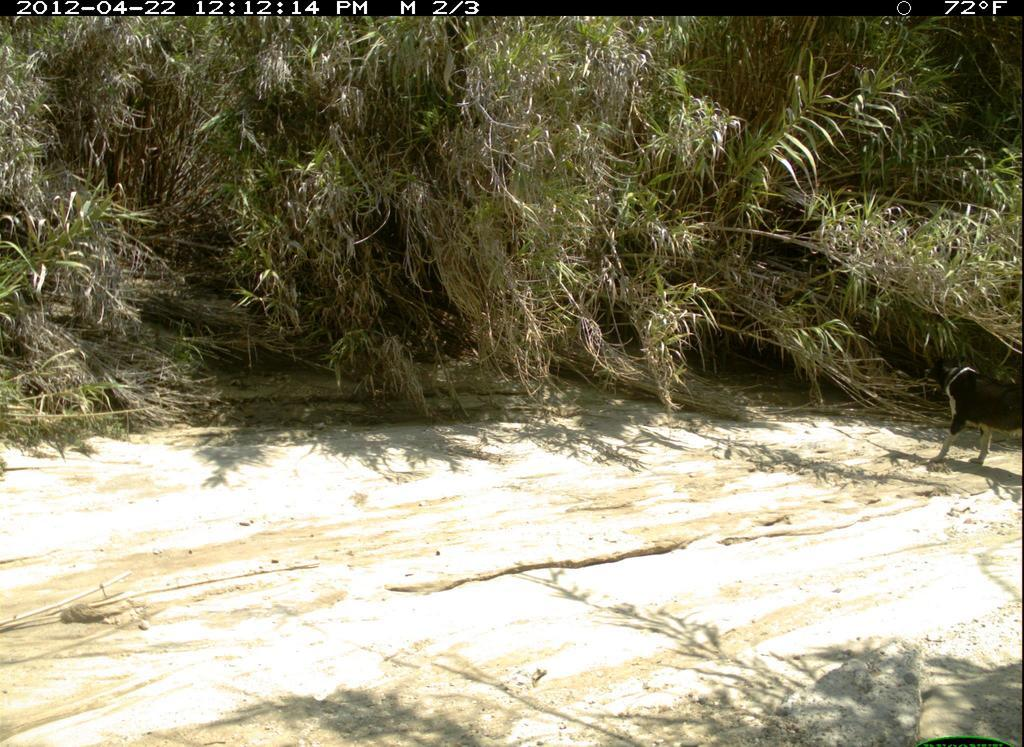dog: (911, 335, 1021, 478)
